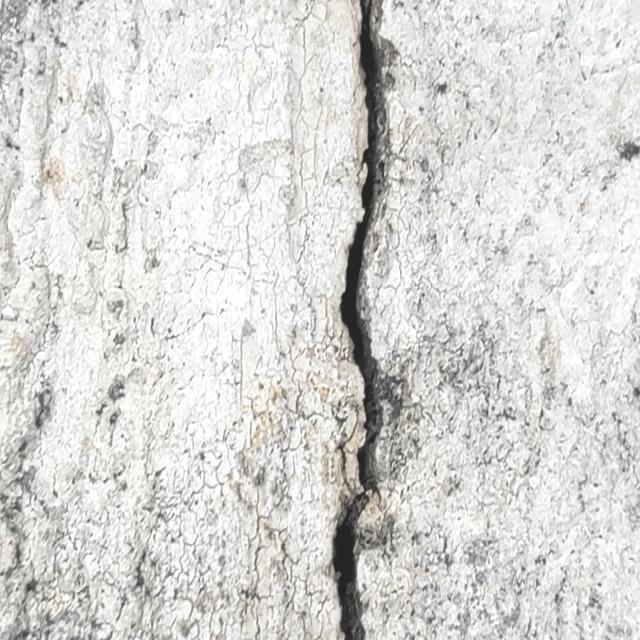SurfaceCrack: (268, 0, 449, 640), (0, 3, 84, 640)
